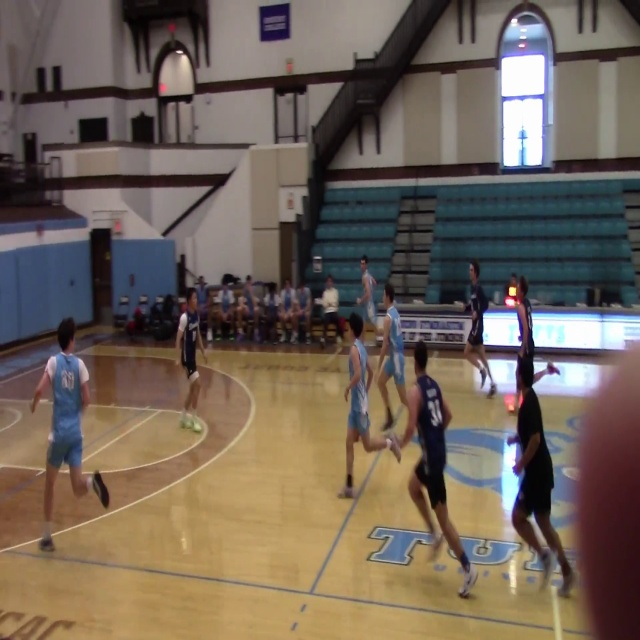Basketball: (192, 421, 202, 433)
